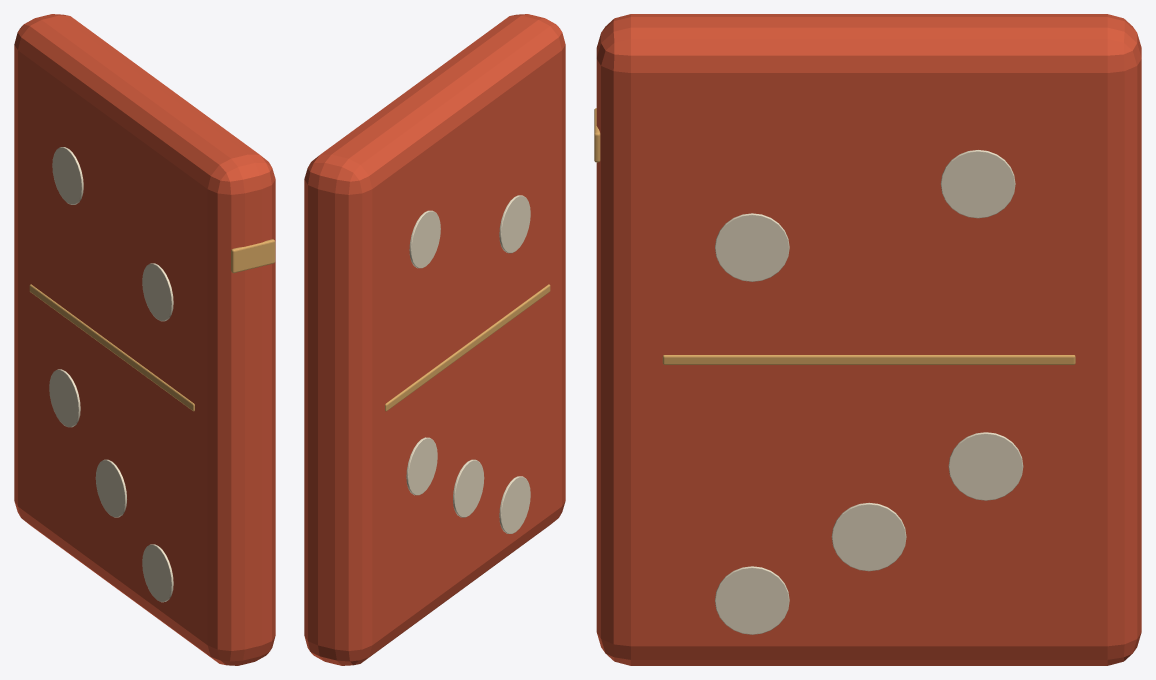
File: domino-coral.glb
3 views of the same model, side by side, from view 1: azimuth 30°, elevation 25°; view 2: azimuth 150°, elevation 25°; view 3: azimuth 270°, elevation 25° (orthographic). The views are drawn at different scales.
Parts seen in each view (by area): view 1: domino-coral; view 2: domino-coral; view 3: domino-coral.
Boxes of the visible parts, x1,y1,x2,y2 form: domino-coral: (14,14,275,665); domino-coral: (304,14,565,665); domino-coral: (594,14,1141,665).
Bounding box in the file's own units: 0.129 × 0.9 × 0.703.
